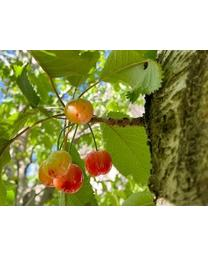cherry: (53, 163, 83, 194), (65, 99, 93, 124), (85, 150, 113, 175), (46, 150, 71, 177), (38, 160, 63, 187)
